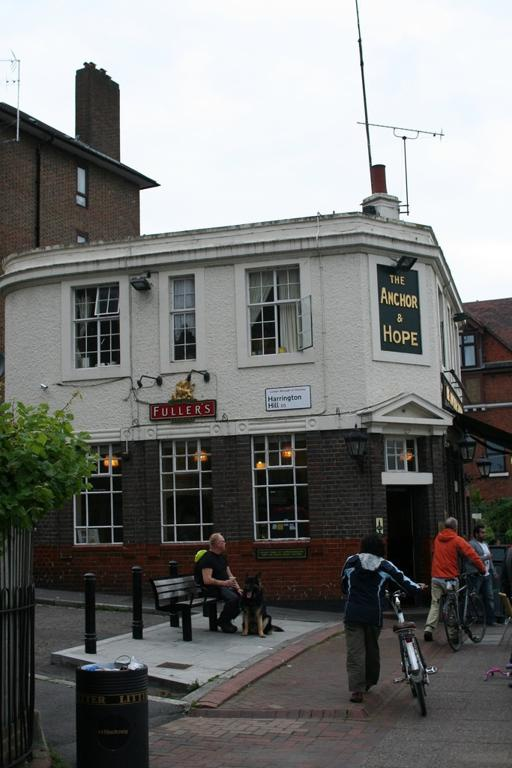non-vehicle: (378, 580, 438, 715), (439, 570, 487, 652)
